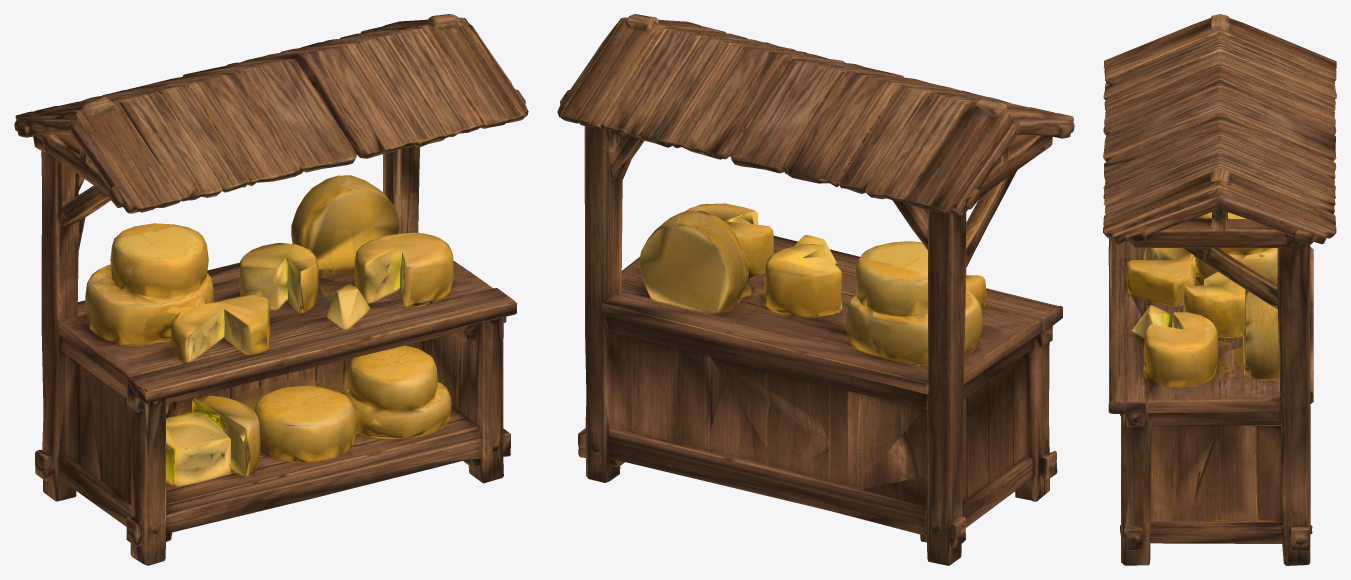
The model's file is city_kars_gravyer_stall.glb.
3 views of the same model, side by side, from view 1: azimuth 30°, elevation 25°; view 2: azimuth 150°, elevation 25°; view 3: azimuth 270°, elevation 25° (orthographic). The views are drawn at different scales.
Visible parts, largest first — view 1: Mesh1.0; view 2: Mesh1.0; view 3: Mesh1.0.
Part boxes in pixels (x1=…): Mesh1.0: x1=14, y1=14, x2=528, y2=565; Mesh1.0: x1=557, y1=14, x2=1074, y2=565; Mesh1.0: x1=1103, y1=14, x2=1336, y2=565.
Size of the model in its own units: 2.21 by 2.2 by 1.19.
Materials: 1 (1 with a texture image).
